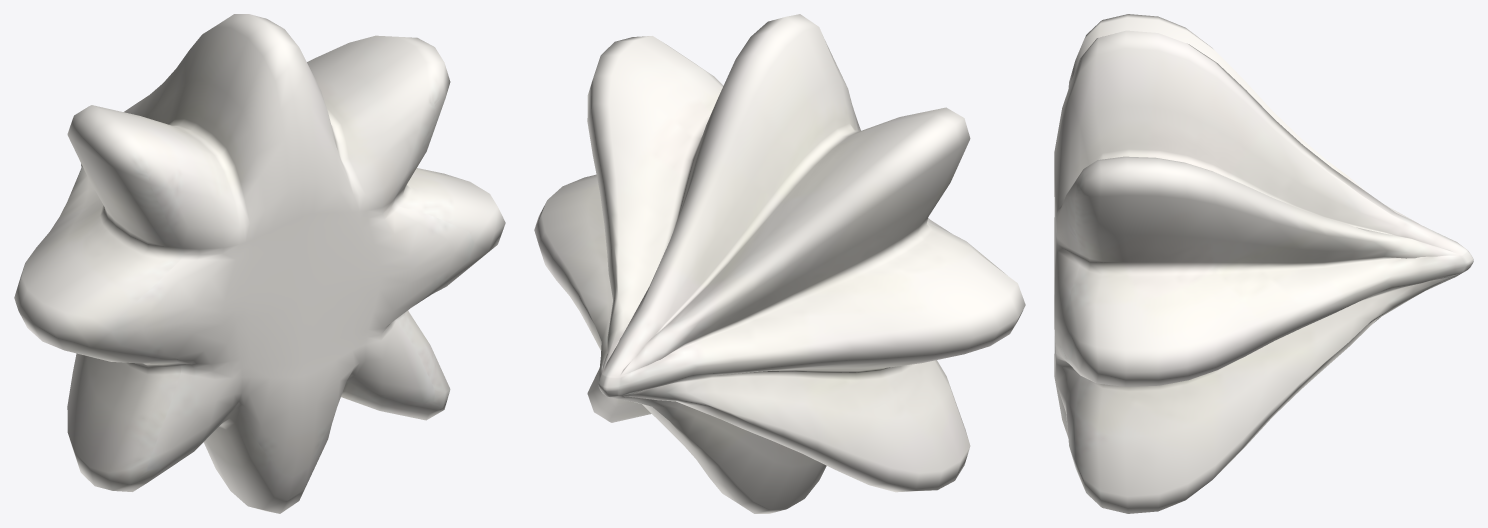
File: piping-star-dome.glb
3 renders of one model, left to right at view 1: azimuth 30°, elevation 25°; view 2: azimuth 150°, elevation 25°; view 3: azimuth 270°, elevation 25°, orthographic. The views are drawn at different scales.
Visible parts, largest first — view 1: set1_cream3; view 2: set1_cream3; view 3: set1_cream3.
Part boxes in pixels (x1,y1,x2,y2): set1_cream3: [14, 14, 505, 513]; set1_cream3: [534, 14, 1025, 513]; set1_cream3: [1054, 14, 1473, 513].
Size of the model in its own units: 0.0197 by 0.0197 by 0.016.
1 material, 1 textured.
